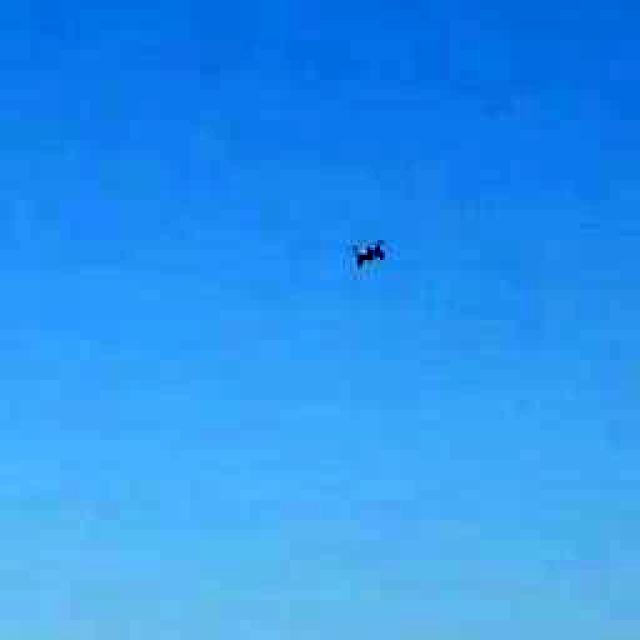bird: (335, 224, 398, 289)
